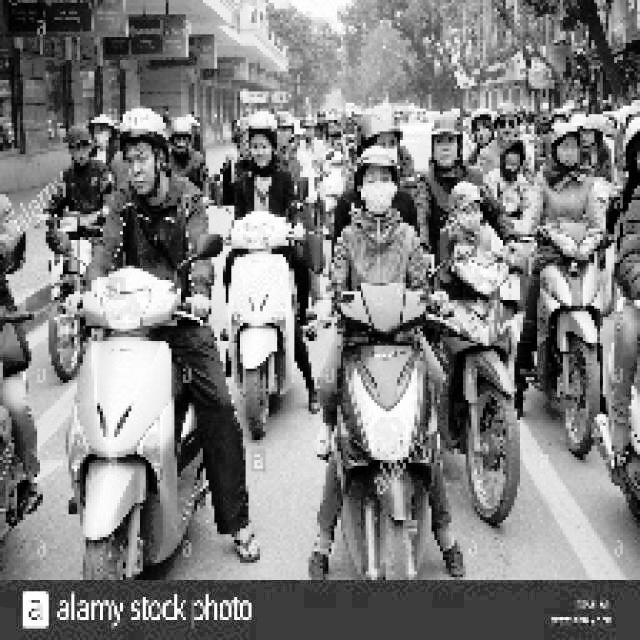Bike: (73, 279, 201, 593), (319, 279, 445, 583), (427, 235, 525, 523), (531, 215, 600, 446), (223, 222, 299, 423)
